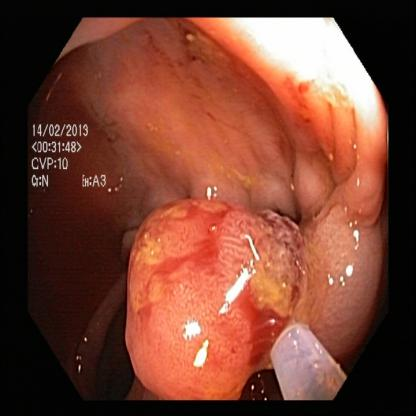Polyps: (120, 201, 270, 400)
